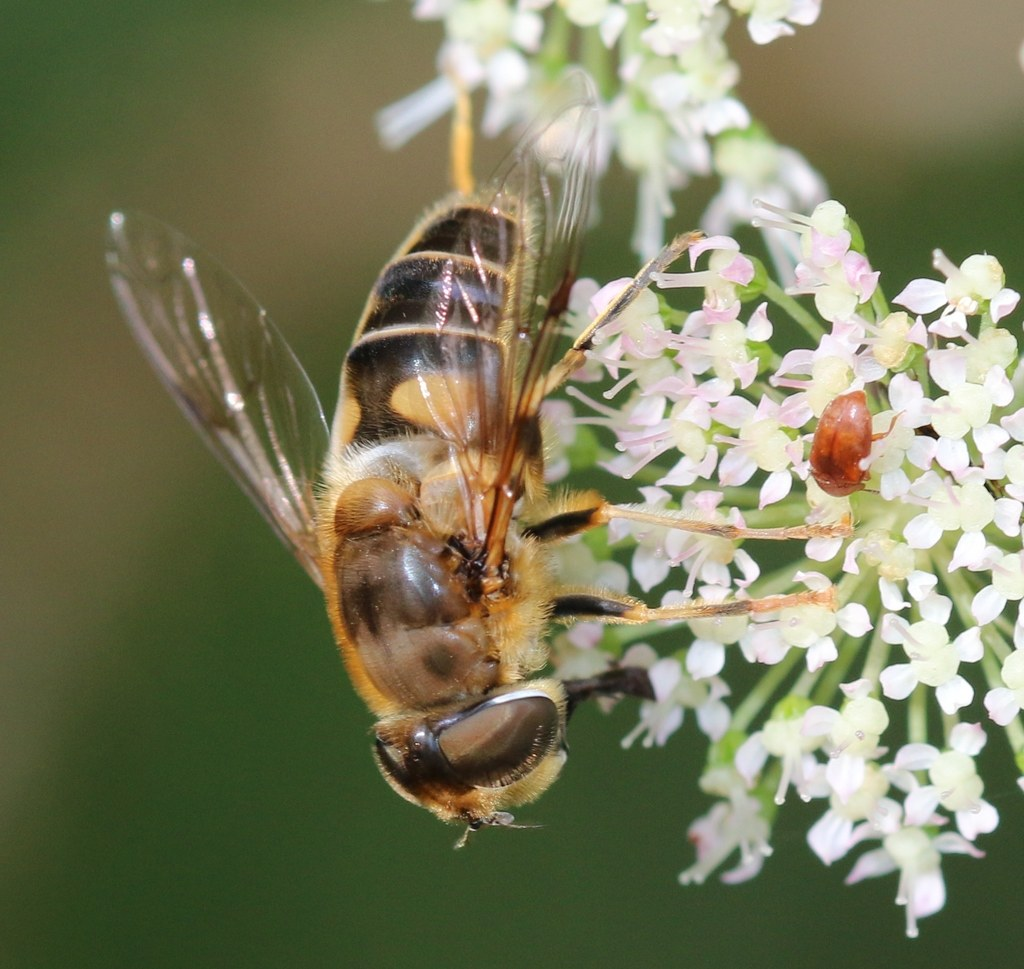bee: (99, 61, 874, 851)
insect: (408, 0, 1023, 943)
